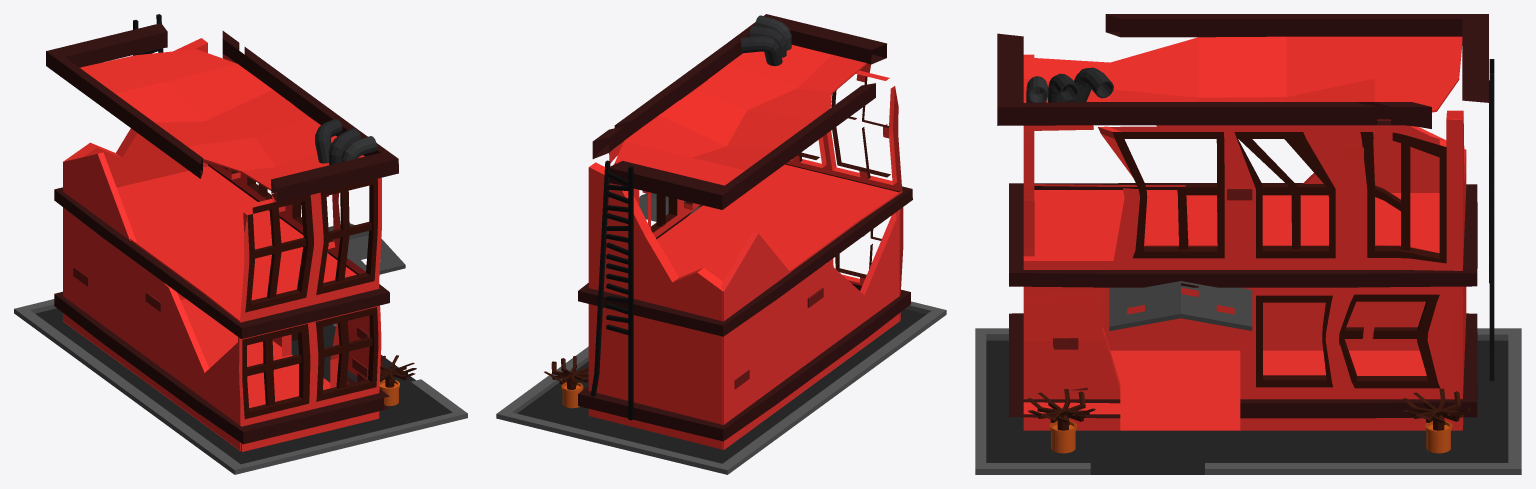
Rendered from house 60%.obj.
The picture shows the model from 3 angles, left to right: view 1: azimuth 30°, elevation 25°; view 2: azimuth 150°, elevation 25°; view 3: azimuth 270°, elevation 25°; orthographic projection. The views are drawn at different scales.
Visible parts, largest first — view 1: Cube.016_Cube.018, Plane_Plane.001, Plane.003_Plane, Plane.004, Plane.002, Plane.001_Plane.003, Plane.039_Plane.020, Plane.037_Plane.018, Plane.038_Plane.019, Cylinder.004_Cylinder.007, Plane.041_Plane.032; view 2: Cube.016_Cube.018, Plane.001_Plane.003, Plane_Plane.001, Plane.003_Plane, Plane.004, Plane.002, Cube.253_Cube.297, Cube.254_Cube.298, Plane.037_Plane.018, Cylinder.006_Cylinder.010, Plane.041_Plane.032, Plane.038_Plane.019; view 3: Cube.016_Cube.018, Plane.002, Plane.003_Plane, Plane.004, Plane_Plane.001, Plane.039_Plane.020, Plane.001_Plane.003, Cube.254_Cube.298, Cylinder.006_Cylinder.010, Cylinder.004_Cylinder.007, Plane.037_Plane.018, Plane.038_Plane.019 (+2 smaller).
Part boxes in pixels (<box>): Cube.016_Cube.018: <box>46,23,398,451</box>; Plane_Plane.001: <box>63,152,241,450</box>; Plane.003_Plane: <box>80,49,364,193</box>; Plane.004: <box>117,166,356,320</box>; Plane.002: <box>14,299,467,474</box>; Plane.001_Plane.003: <box>64,38,207,299</box>; Plane.039_Plane.020: <box>327,223,405,274</box>; Plane.037_Plane.018: <box>315,119,342,163</box>; Plane.038_Plane.019: <box>328,128,360,164</box>; Cylinder.004_Cylinder.007: <box>380,355,416,387</box>; Plane.041_Plane.032: <box>341,136,376,162</box>; Cube.016_Cube.018: <box>578,14,912,441</box>; Plane.001_Plane.003: <box>588,162,722,449</box>; Plane_Plane.001: <box>721,210,899,449</box>; Plane.003_Plane: <box>614,45,866,185</box>; Plane.004: <box>657,164,899,281</box>; Plane.002: <box>496,301,946,474</box>; Cube.253_Cube.297: <box>628,166,633,420</box>; Cube.254_Cube.298: <box>590,160,610,396</box>; Plane.037_Plane.018: <box>741,36,782,65</box>; Cylinder.006_Cylinder.010: <box>544,356,588,389</box>; Plane.041_Plane.032: <box>755,15,791,50</box>; Plane.038_Plane.019: <box>749,25,786,57</box>; Cube.016_Cube.018: <box>997,14,1488,430</box>; Plane.002: <box>975,328,1521,474</box>; Plane.003_Plane: <box>1023,36,1462,120</box>; Plane.004: <box>1023,190,1439,260</box>; Plane_Plane.001: <box>1100,119,1465,350</box>; Plane.039_Plane.020: <box>1109,281,1252,330</box>; Plane.001_Plane.003: <box>1446,110,1466,430</box>; Cube.254_Cube.298: <box>1489,73,1494,380</box>; Cylinder.006_Cylinder.010: <box>1402,388,1470,430</box>; Cylinder.004_Cylinder.007: <box>1027,389,1095,430</box>; Plane.037_Plane.018: <box>1067,67,1113,102</box>; Plane.038_Plane.019: <box>1048,73,1078,102</box>.
Size of the model in its own units: 3.4 by 3.92 by 5.57.
